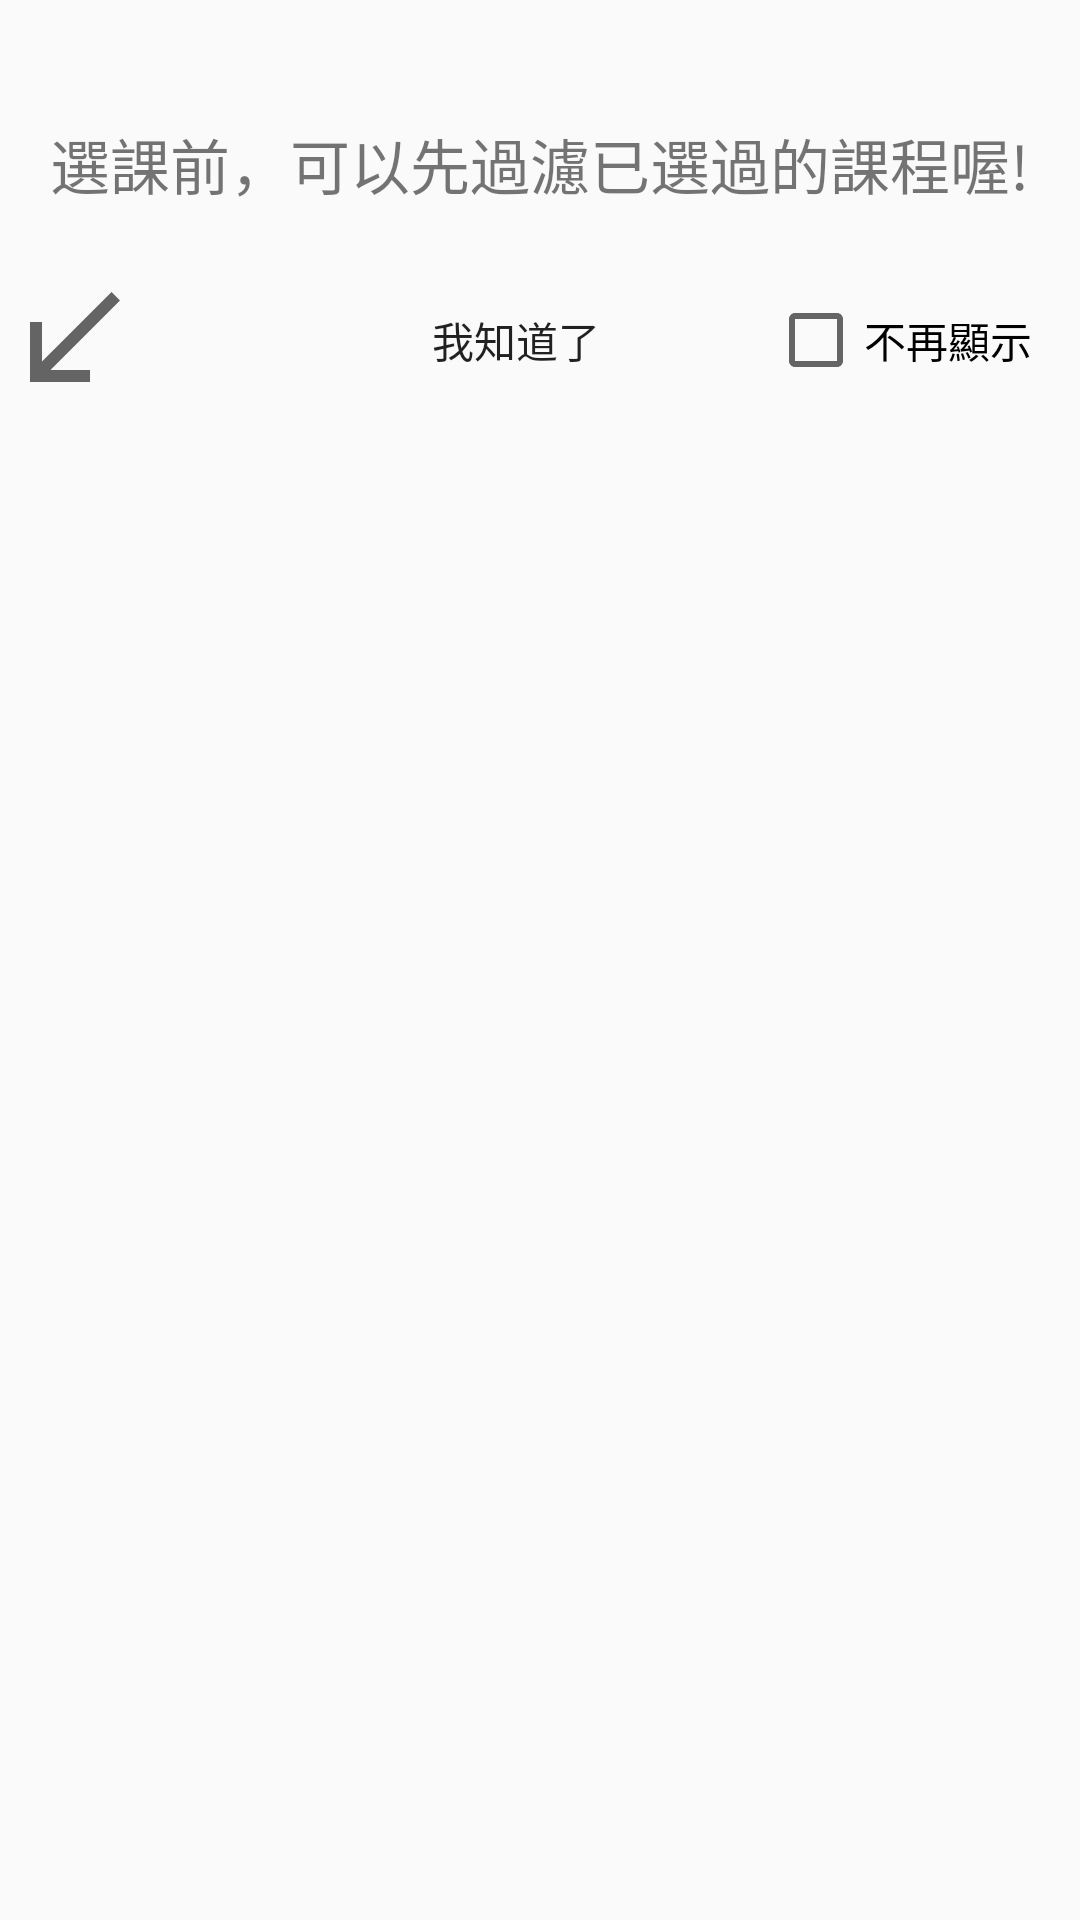

Icon click points for this 1080w x 1920h phone screenshot, format (x,y):
call received: (75,337)
